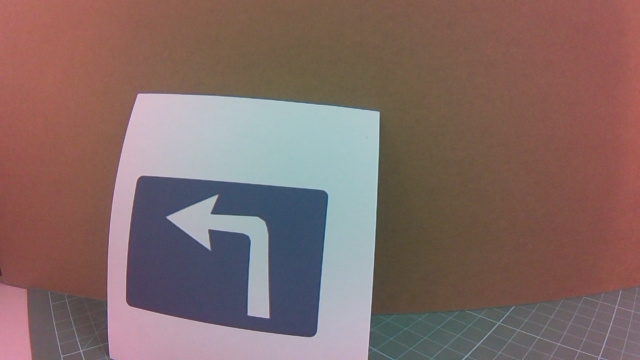left: (134, 158, 353, 329)
